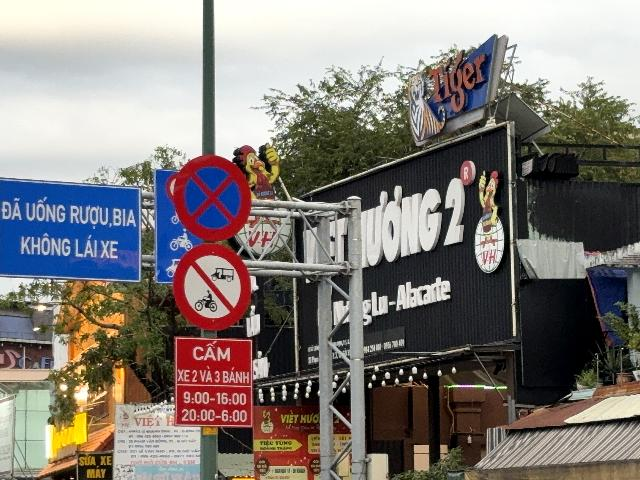cam-dung-va-do-xe: (172, 153, 251, 243)
cam-xe-2-banh-3-banh: (171, 242, 251, 332)
